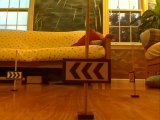left: (65, 60, 109, 82)
right: (6, 71, 22, 79)
